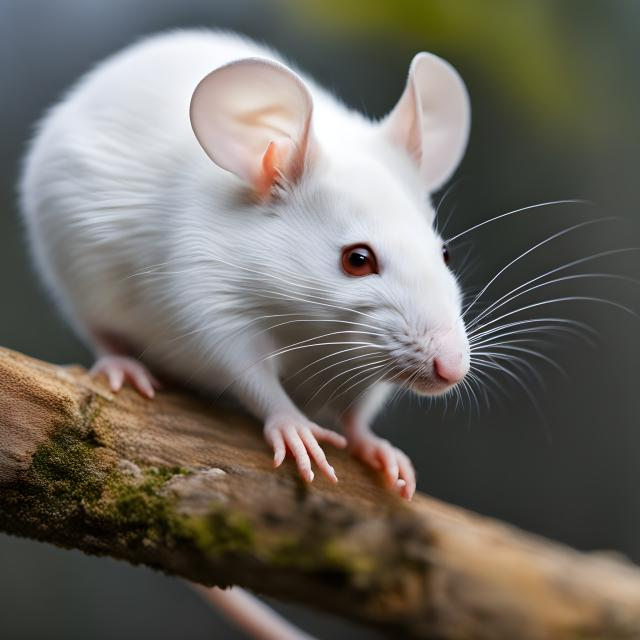rodents: (8, 21, 509, 487)
